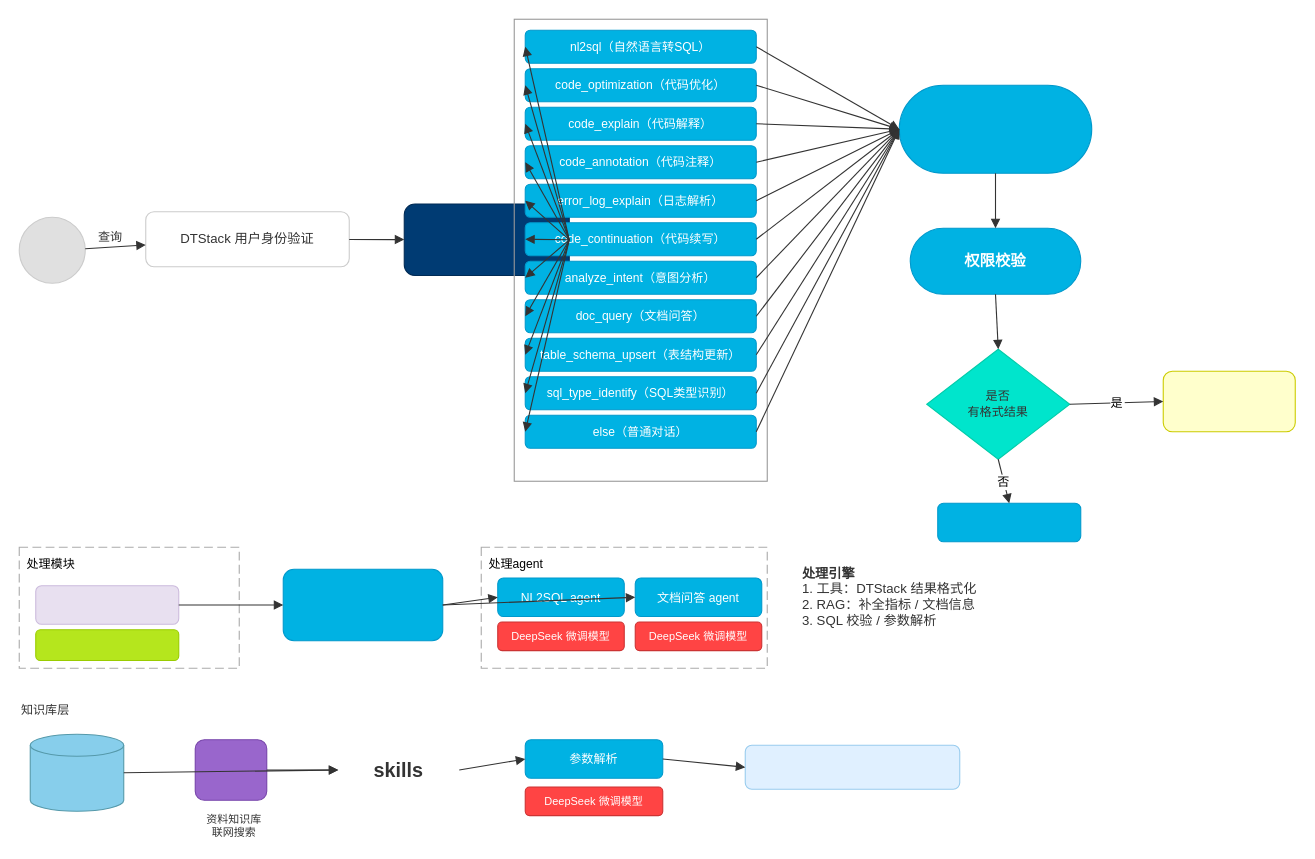
Image size: 1315x859. Some labels were removed from this diagram. Each missing label, with the centre of its shape:
"API" belongs at [230,769].
"DTStack 结果格式化" belongs at [995,128].
"DTStack 结果格式化工具" belongs at [852,766].
"Milvus 知识库检索" belongs at [362,604].
"Query Rewrite" belongs at [107,604].
"Result" belongs at [1228,401].
"User" belongs at [51,249].
"意图路由 (条件分支)" belongs at [486,239].
"指标元信息 知识库" belongs at [76,772].
"通用 LLM 模型" belongs at [107,645].
"默认文本回复" belongs at [1009,522].
